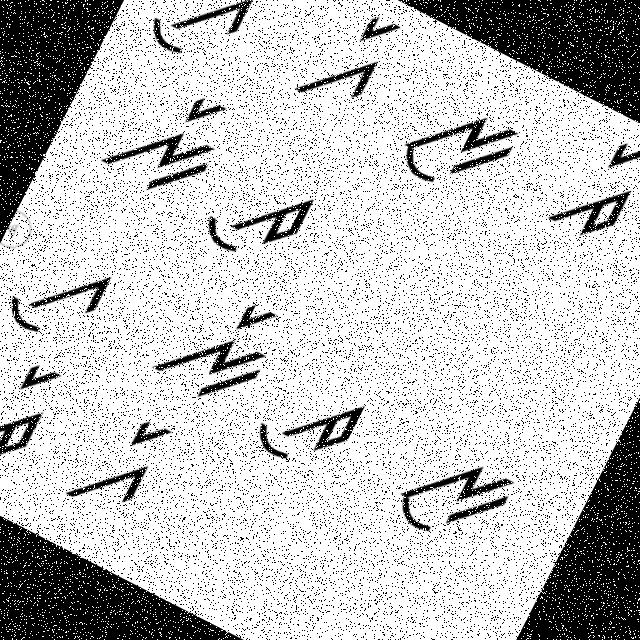gar: (54, 392, 196, 540), (290, 0, 413, 129)
gaw: (0, 221, 136, 370), (132, 0, 269, 85)
ngar: (141, 264, 295, 428), (91, 62, 242, 216)
ngaw: (382, 72, 536, 221), (380, 420, 531, 568)
tar: (537, 112, 639, 259), (0, 343, 77, 481)
taw: (242, 346, 382, 494), (193, 142, 328, 280)
